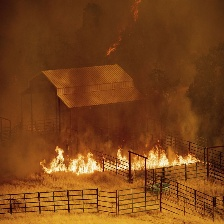fire: (39, 145, 201, 177)
smoke: (5, 2, 223, 157)
